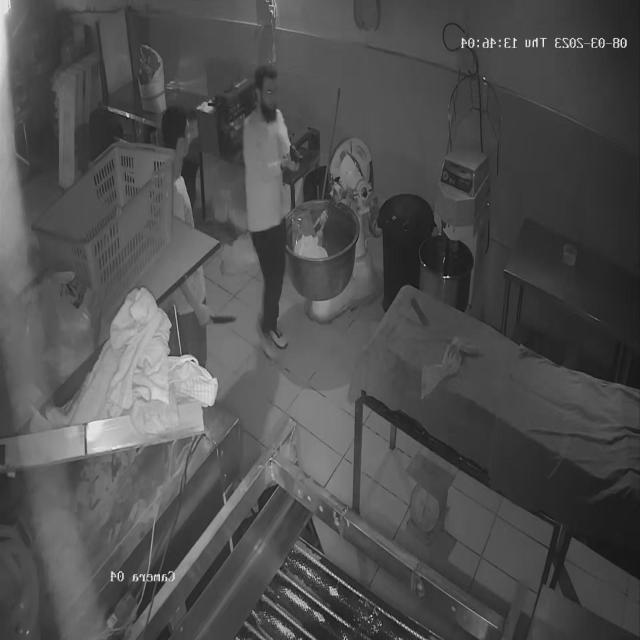Gun: (278, 131, 322, 171)
Knife: (193, 302, 249, 333)
